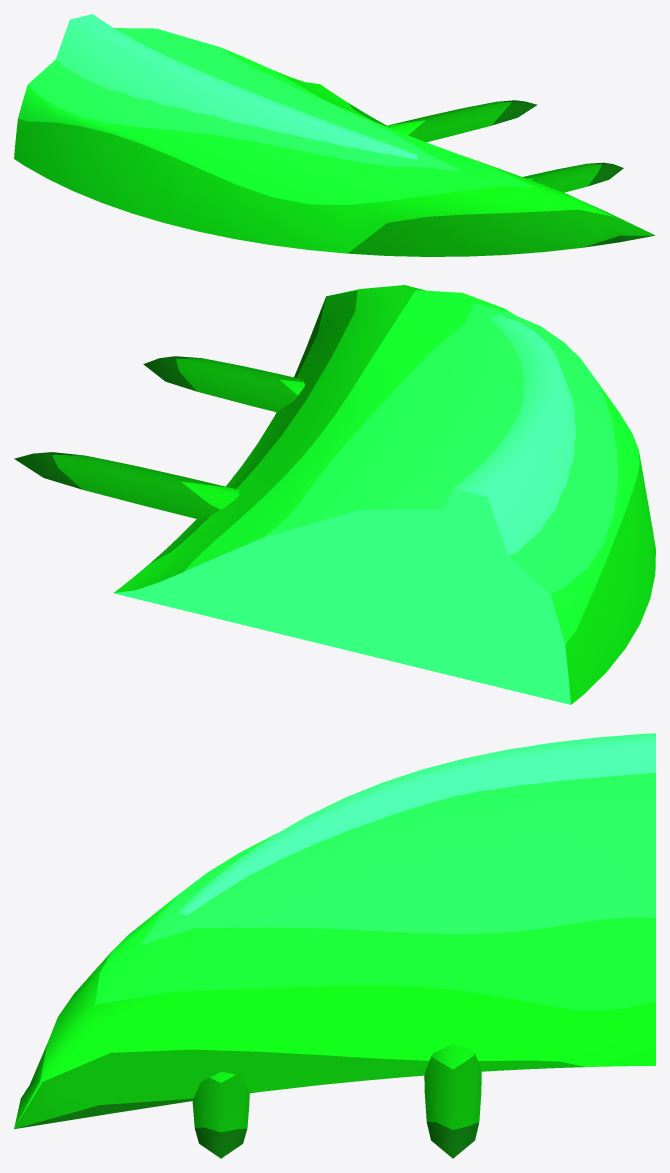
The model's file is shot_sonic_124.glb.
3 views of the same model, one above another, from view 1: azimuth 30°, elevation 25°; view 2: azimuth 150°, elevation 25°; view 3: azimuth 270°, elevation 25° (orthographic). The views are drawn at different scales.
Visible parts, largest first — view 1: sonic_left_wave_124, sonic_left_core_124, sonic_left_streak1_124, sonic_left_streak0_124; view 2: sonic_left_wave_124, sonic_left_core_124, sonic_left_streak1_124, sonic_left_streak0_124; view 3: sonic_left_wave_124, sonic_left_core_124, sonic_left_streak1_124, sonic_left_streak0_124.
Part boxes in pixels (x1,y1,x2,y2): sonic_left_wave_124: (14, 28, 655, 256); sonic_left_core_124: (56, 14, 417, 159); sonic_left_streak1_124: (385, 100, 537, 142); sonic_left_streak0_124: (523, 162, 623, 192); sonic_left_wave_124: (113, 285, 655, 704); sonic_left_core_124: (414, 315, 575, 693); sonic_left_streak1_124: (14, 452, 239, 518); sonic_left_streak0_124: (143, 356, 304, 412); sonic_left_wave_124: (14, 773, 655, 1128); sonic_left_core_124: (178, 733, 655, 915); sonic_left_streak1_124: (424, 1044, 481, 1158); sonic_left_streak0_124: (192, 1071, 249, 1158).
Size of the model in its own units: 11.98 by 3.21 by 11.07.
